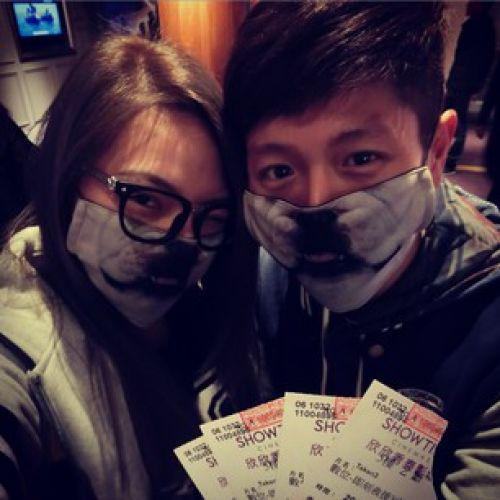OK: (80, 146, 244, 310)
WRONG: (245, 138, 414, 307)
